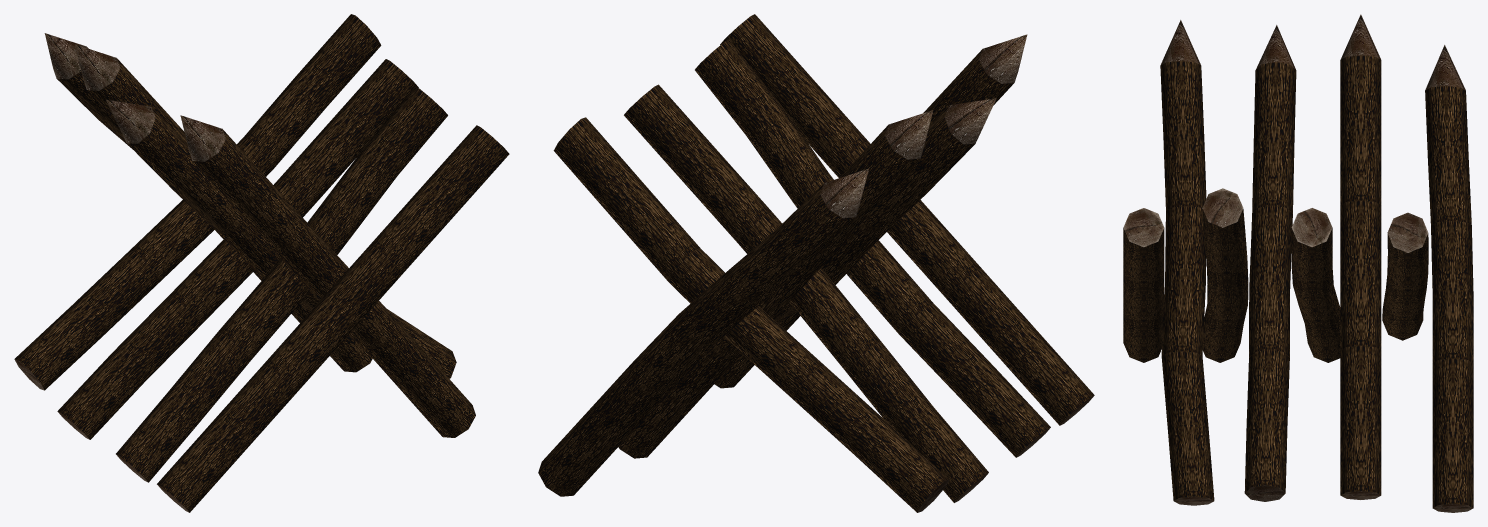
File: Barrier.fbx
3 views of the same model, side by side, from view 1: azimuth 30°, elevation 25°; view 2: azimuth 150°, elevation 25°; view 3: azimuth 270°, elevation 25° (orthographic). The views are drawn at different scales.
Visible parts, largest first — view 1: Barrier; view 2: Barrier; view 3: Barrier.
Part boxes in pixels (box(x1,y1,x2,y2)): Barrier: box(14, 14, 509, 512); Barrier: box(538, 14, 1094, 512); Barrier: box(1123, 14, 1473, 512).
Size of the model in its own units: 2.28 by 2.4 by 2.07.
